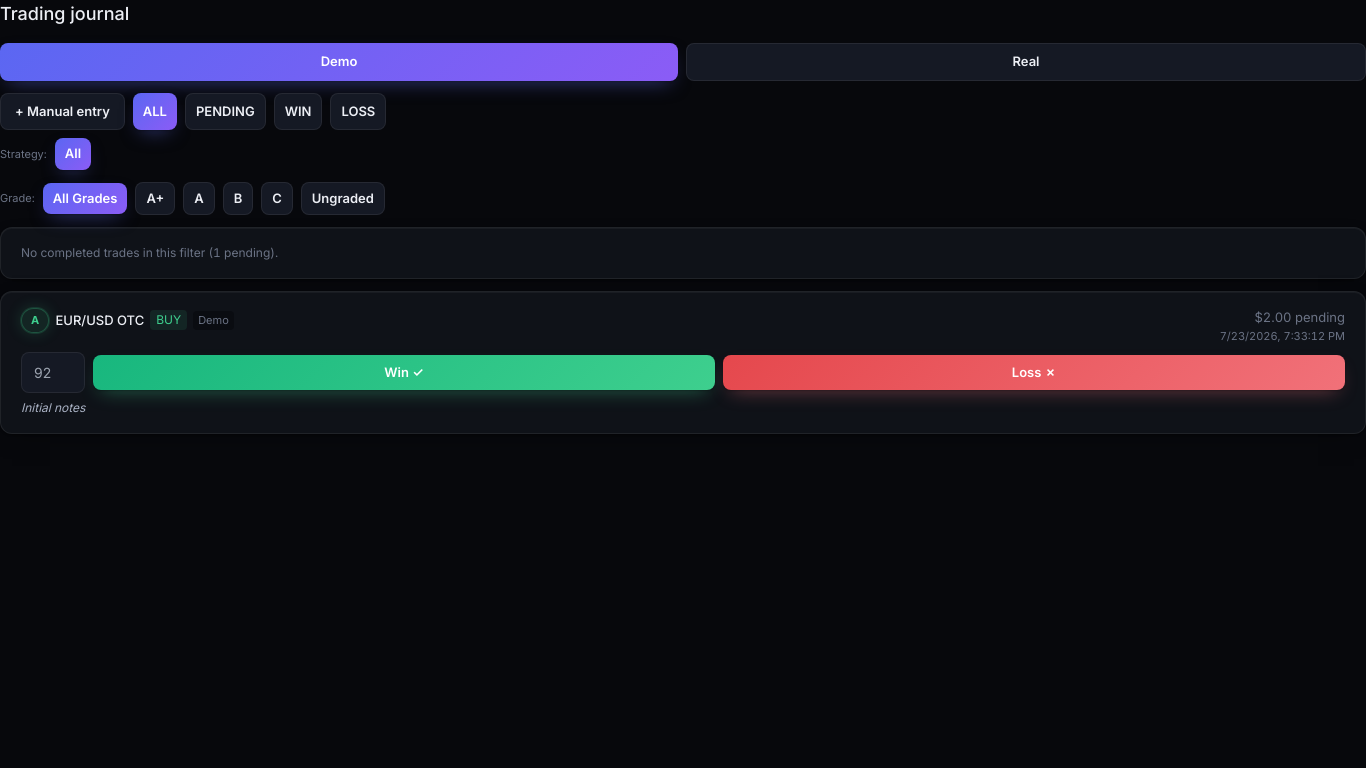
Test: lets you edit notes for a saved journal entry
This screenshot has width=1366, height=768.
Click the text "EUR/USD OTC" at [100, 320], box [55, 310, 144, 330]
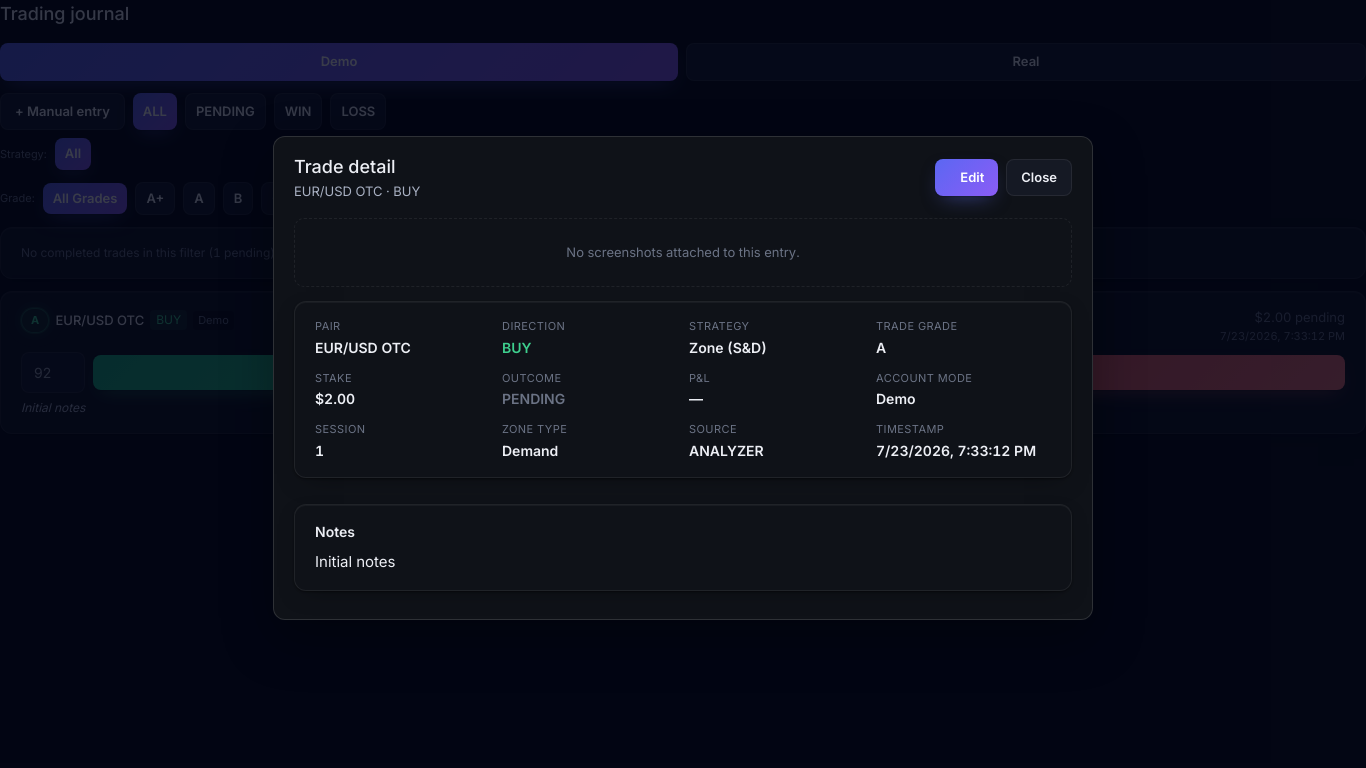
Click the button "Edit" at [967, 178], box [935, 159, 998, 196]
(page scrolled)
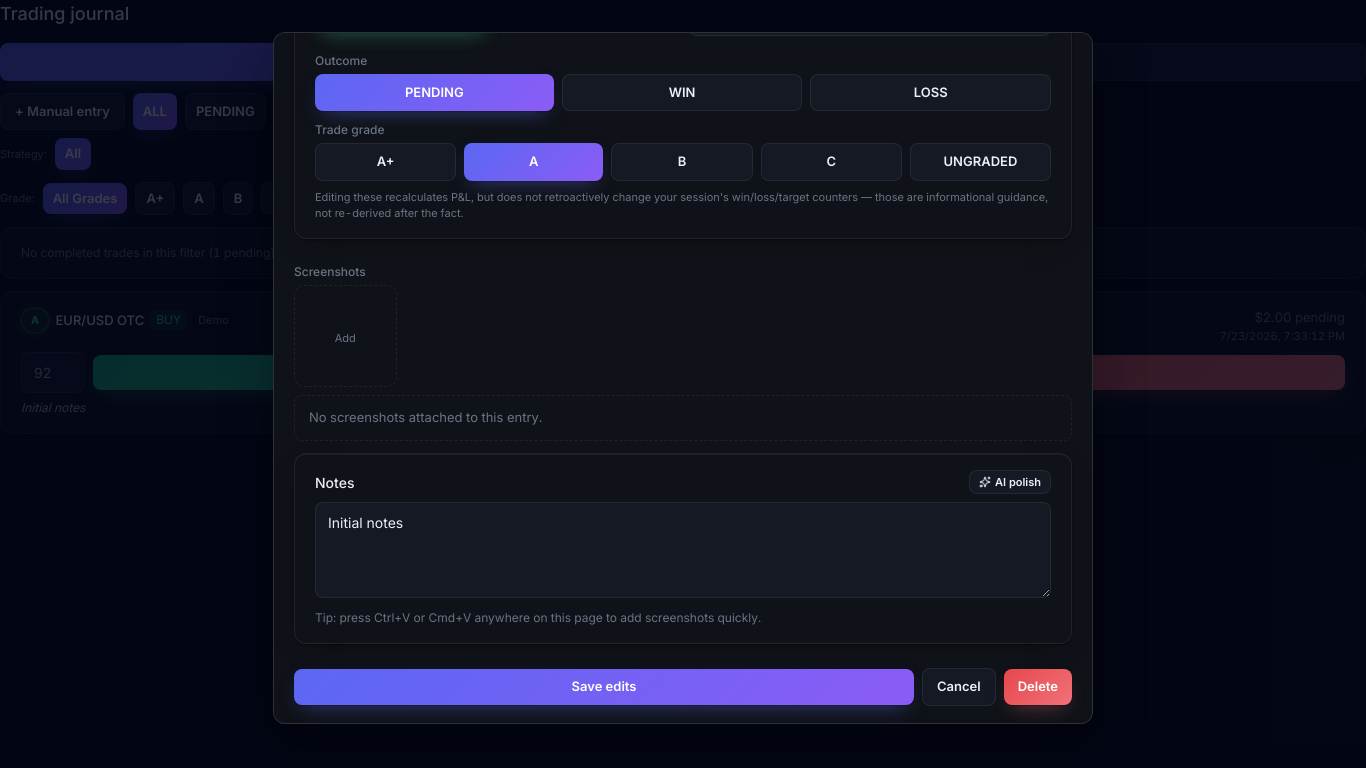
Replace the text in the text box named "Journal notes" with "Updated notes" at [683, 550], box [315, 502, 1051, 598]
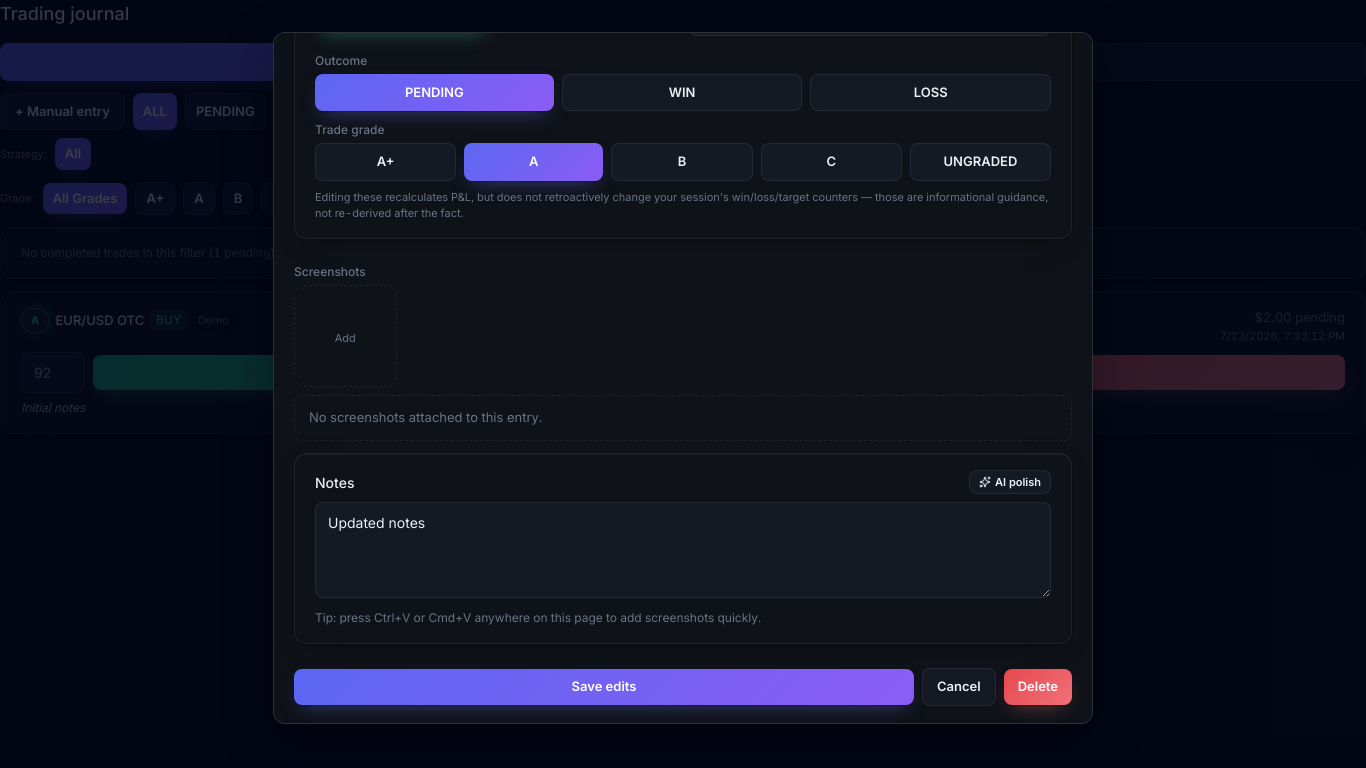
Click the button "Save edits" at [604, 687], box [294, 670, 914, 705]
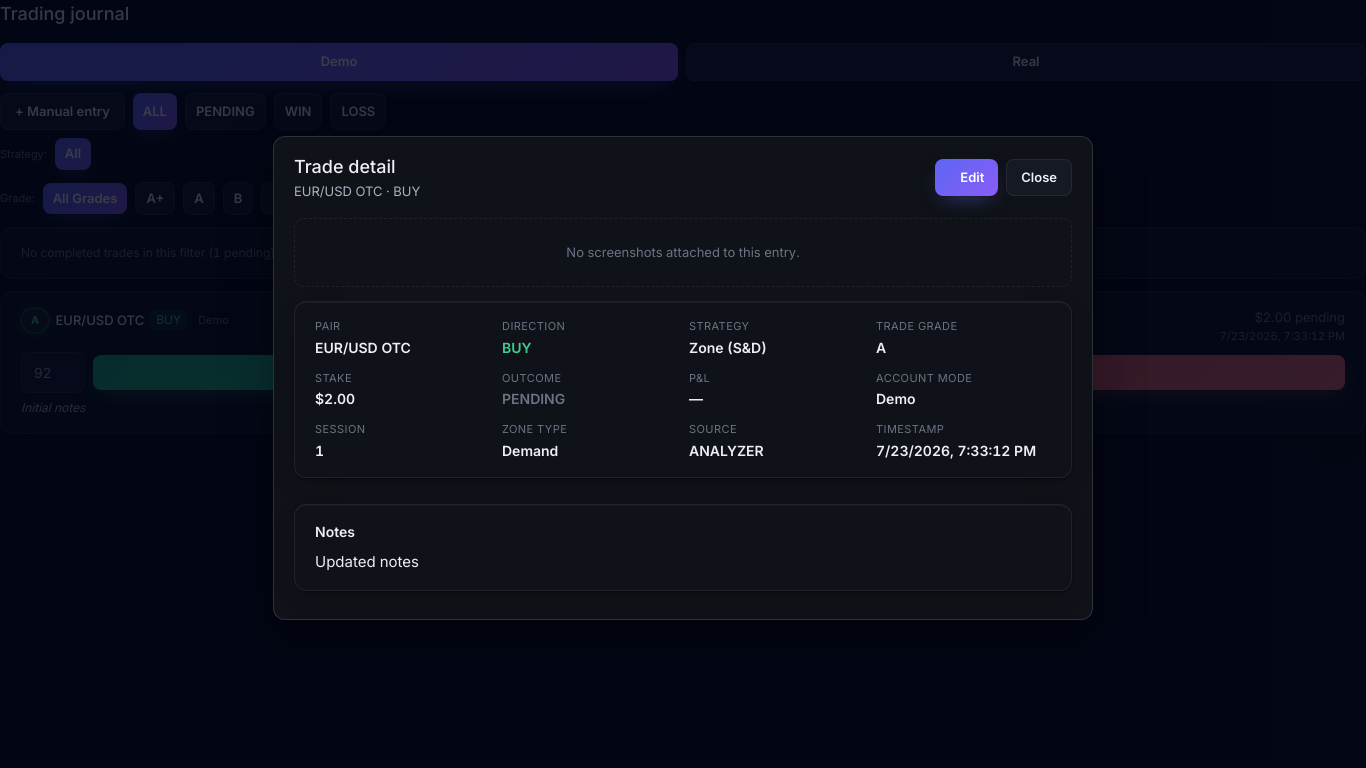
Check: the text "Updated notes" is shown, box [315, 552, 419, 571]
